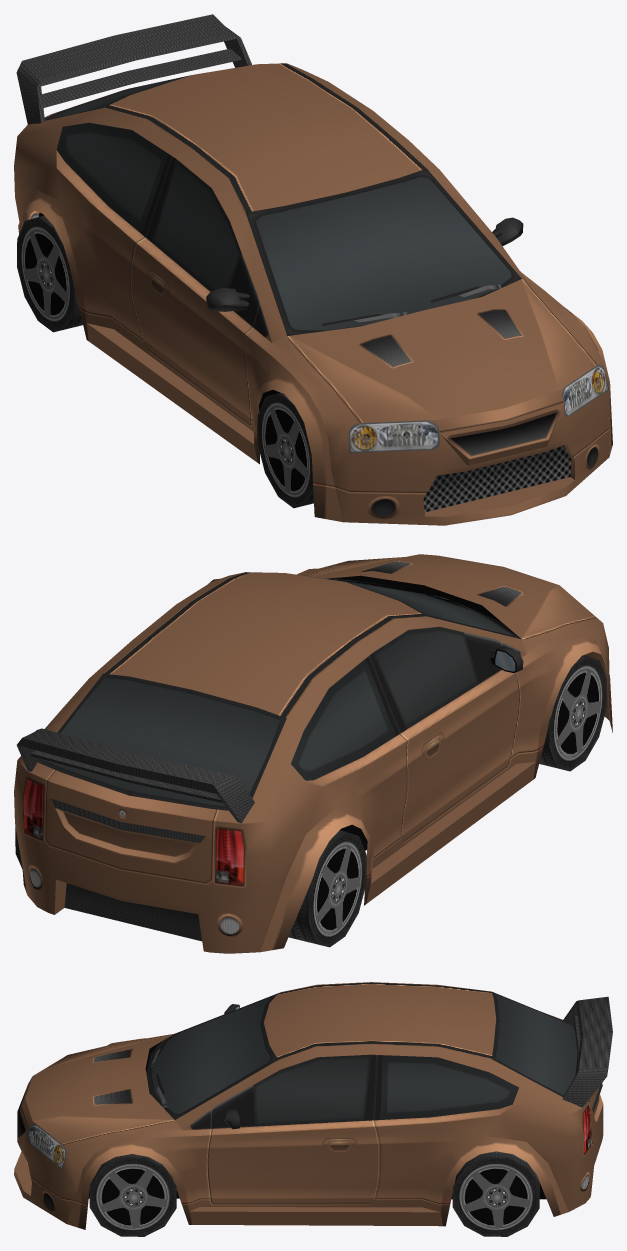
The model's file is StreetPerformanceCar_LOD1.fbx.
The picture shows the model from 3 angles, top to bottom: view 1: azimuth 30°, elevation 25°; view 2: azimuth 150°, elevation 25°; view 3: azimuth 270°, elevation 25°; orthographic projection. The views are drawn at different scales.
Parts seen in each view (by area): view 1: Chassis, RR_Wheel, RF_Wheel; view 2: Chassis, RR_Wheel, RF_Wheel; view 3: Chassis, LR_Wheel, LF_Wheel.
Part boxes in pixels (x1=…): Chassis: x1=14, y1=14, x2=612, y2=525; RR_Wheel: x1=17, y1=215, x2=82, y2=332; RF_Wheel: x1=257, y1=392, x2=313, y2=508; Chassis: x1=14, y1=554, x2=612, y2=953; RR_Wheel: x1=288, y1=830, x2=366, y2=947; RF_Wheel: x1=539, y1=655, x2=606, y2=771; Chassis: x1=14, y1=982, x2=612, y2=1229; LR_Wheel: x1=452, y1=1151, x2=539, y2=1236; LF_Wheel: x1=89, y1=1154, x2=176, y2=1236.
Bounding box in the file's own units: 2.26 × 1.6 × 4.94.
Materials: 2 (2 with a texture image).
